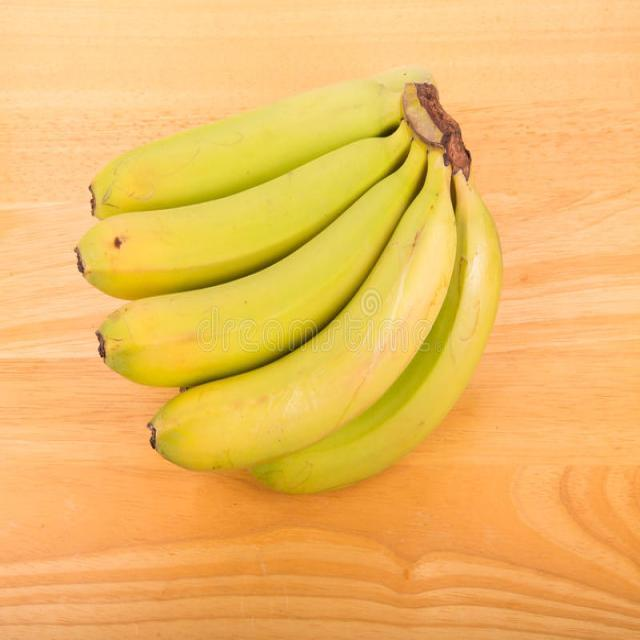Banana: (73, 58, 508, 500)
